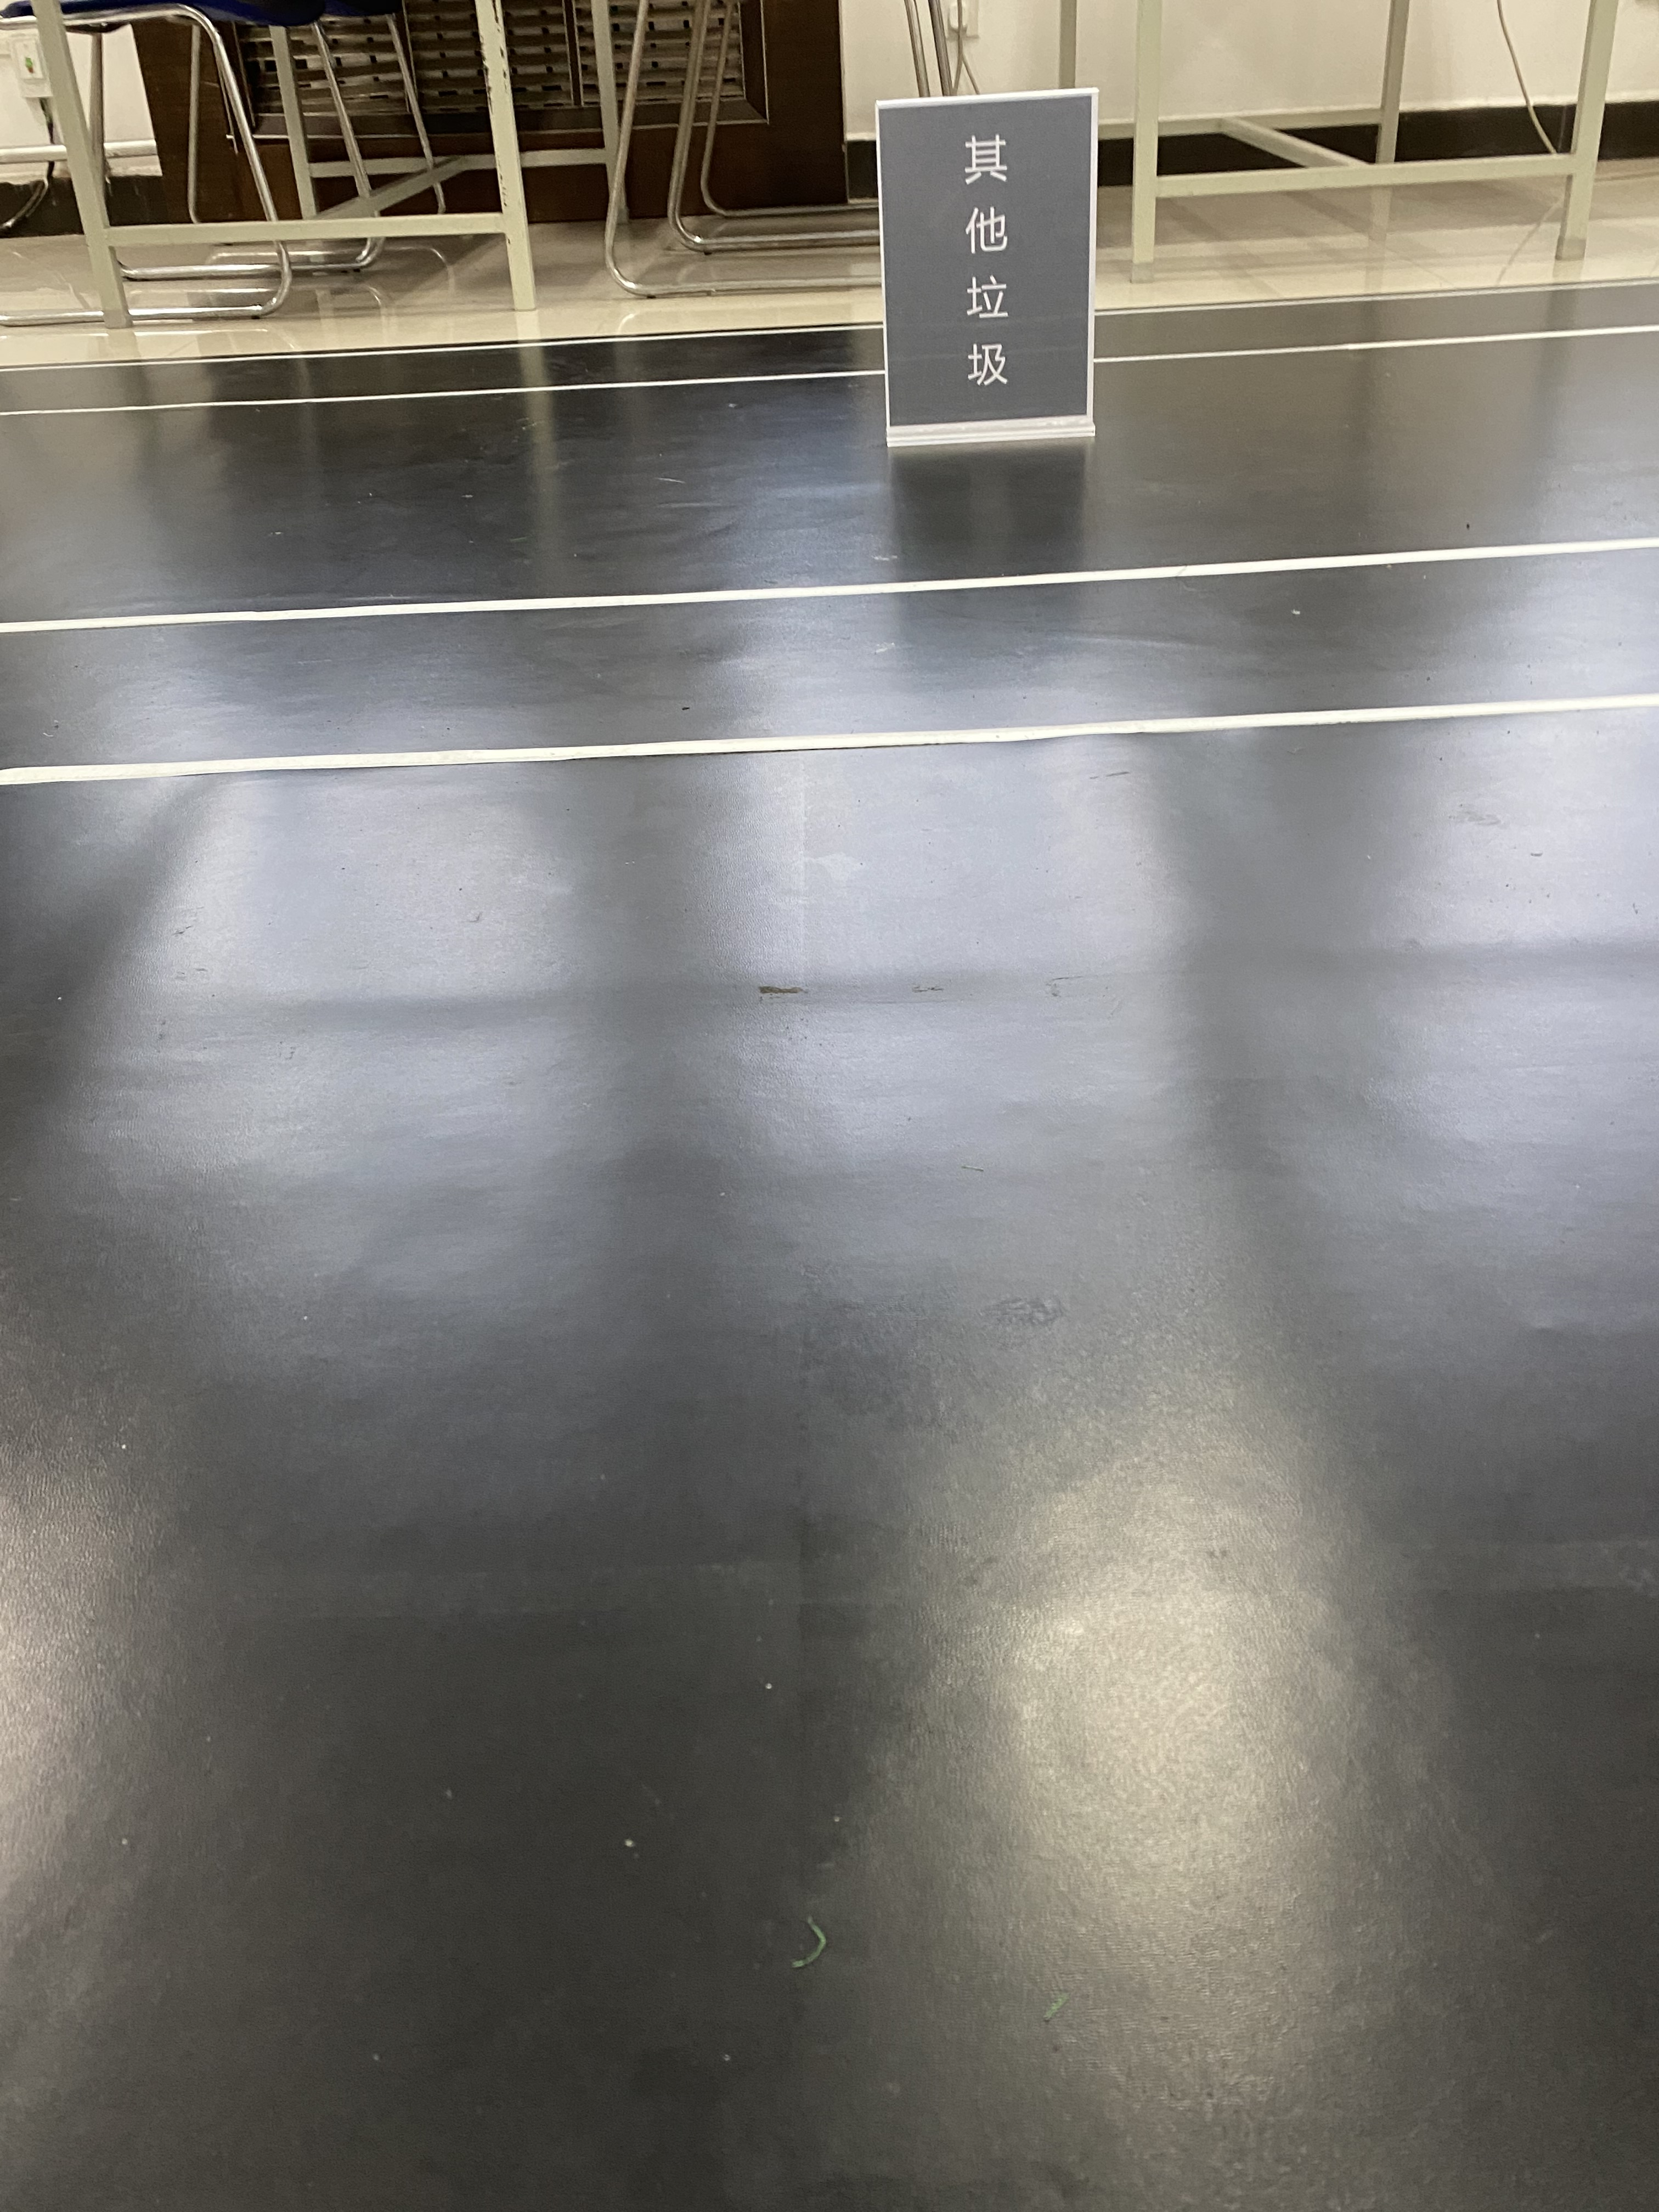black: (882, 106, 1093, 413)
